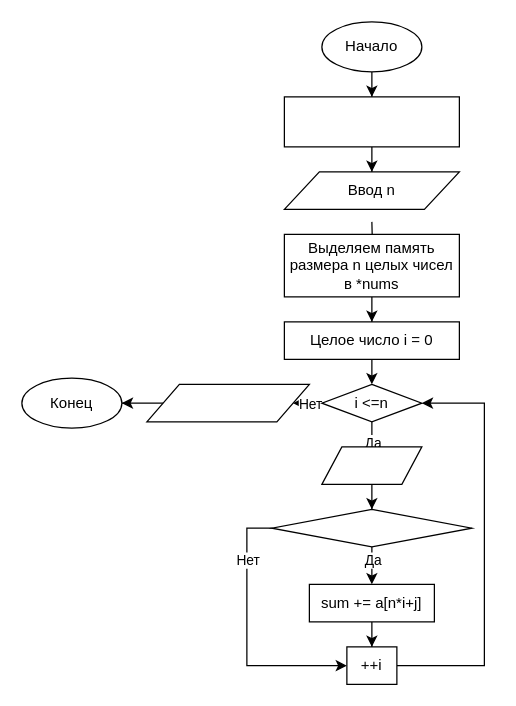
Image size: 516x706. Some labels were removed from this diagram. The shapes that lost their labels are listed below. From the top down, each one's box as (x1, y1, x2, y2) in pixels, then its label:
(283, 96, 459, 147): Целое число n Целое число sum = 0
(146, 383, 309, 422): Вывод числа sum
(321, 446, 422, 484): nums[i]
(271, 508, 472, 547): nums[i] % 12 == 0
